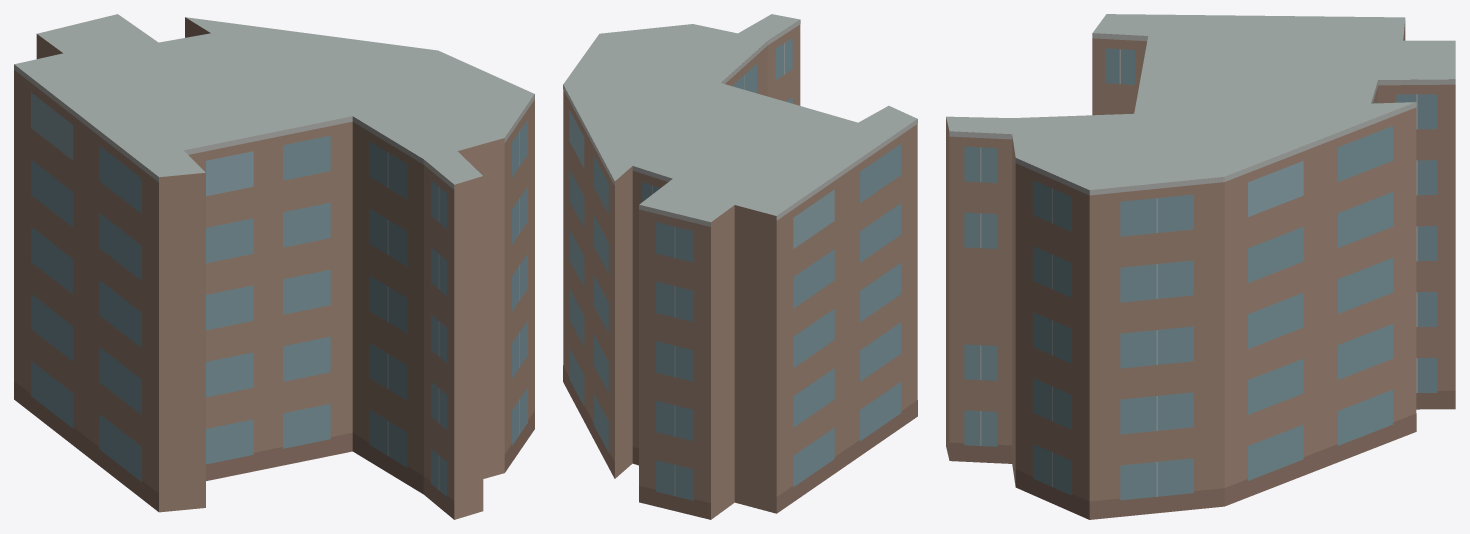
The model's file is survey-upis-32647453.glb.
3 renders of one model, left to right at view 1: azimuth 30°, elevation 25°; view 2: azimuth 150°, elevation 25°; view 3: azimuth 270°, elevation 25°, orthographic. The views are drawn at different scales.
Visible parts, largest first — view 1: survey-upis-32647453.tmp; view 2: survey-upis-32647453.tmp; view 3: survey-upis-32647453.tmp.
Part boxes in pixels (x1=…): survey-upis-32647453.tmp: x1=14, y1=14, x2=534, y2=519; survey-upis-32647453.tmp: x1=563, y1=14, x2=917, y2=519; survey-upis-32647453.tmp: x1=946, y1=14, x2=1455, y2=519.
Bounding box in the file's own units: 17.49 × 15.25 × 21.38.
